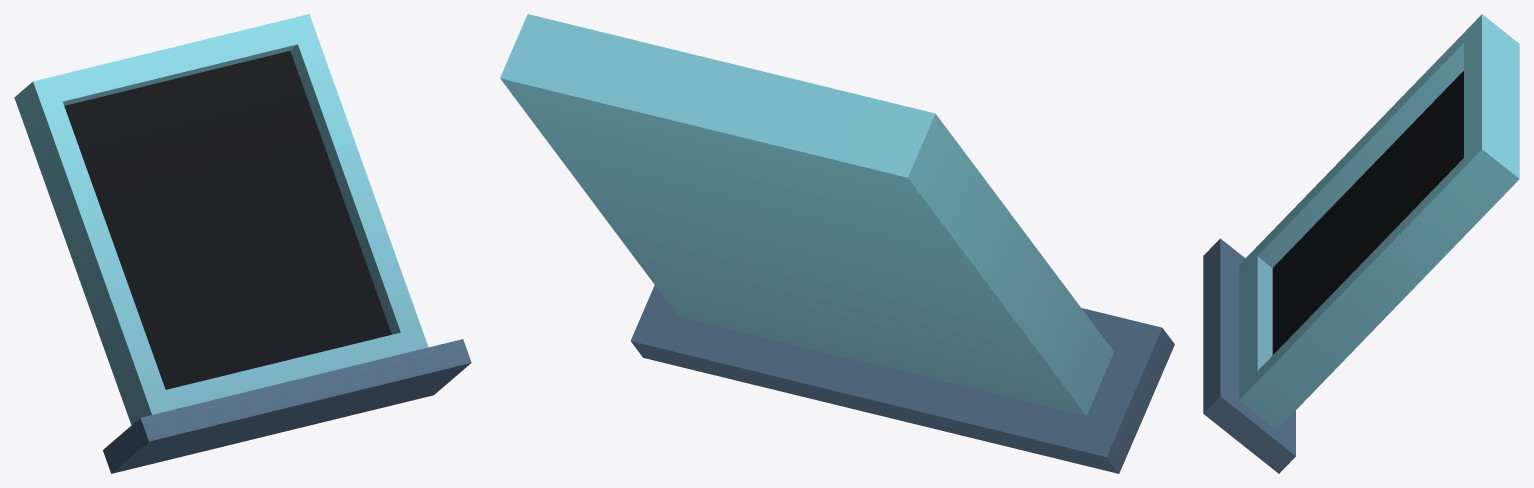
Rendered from Number.fbx.
3 renders of one model, left to right at view 1: azimuth 30°, elevation 25°; view 2: azimuth 150°, elevation 25°; view 3: azimuth 270°, elevation 25°, orthographic. The views are drawn at different scales.
Parts seen in each view (by area): view 1: Cube.001; view 2: Cube.001; view 3: Cube.001.
Boxes of the visible parts, left/top/right/bottom form: Cube.001: left=14, top=14, right=471, bottom=473; Cube.001: left=500, top=14, right=1174, bottom=473; Cube.001: left=1203, top=14, right=1519, bottom=473.
Bounding box in the file's own units: 172 × 159 × 145.
